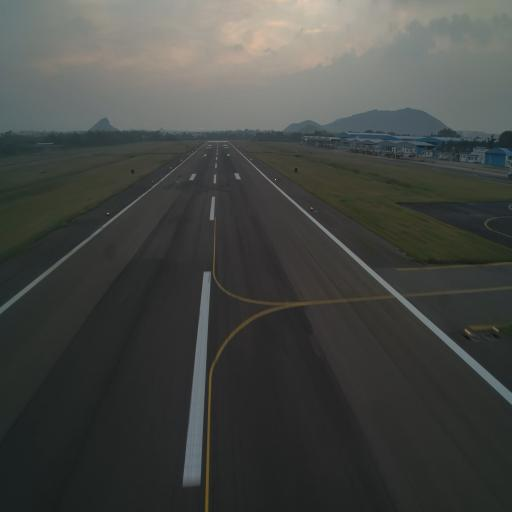on: (463, 324, 473, 339), (491, 322, 501, 334), (309, 206, 313, 212), (106, 212, 109, 218)
